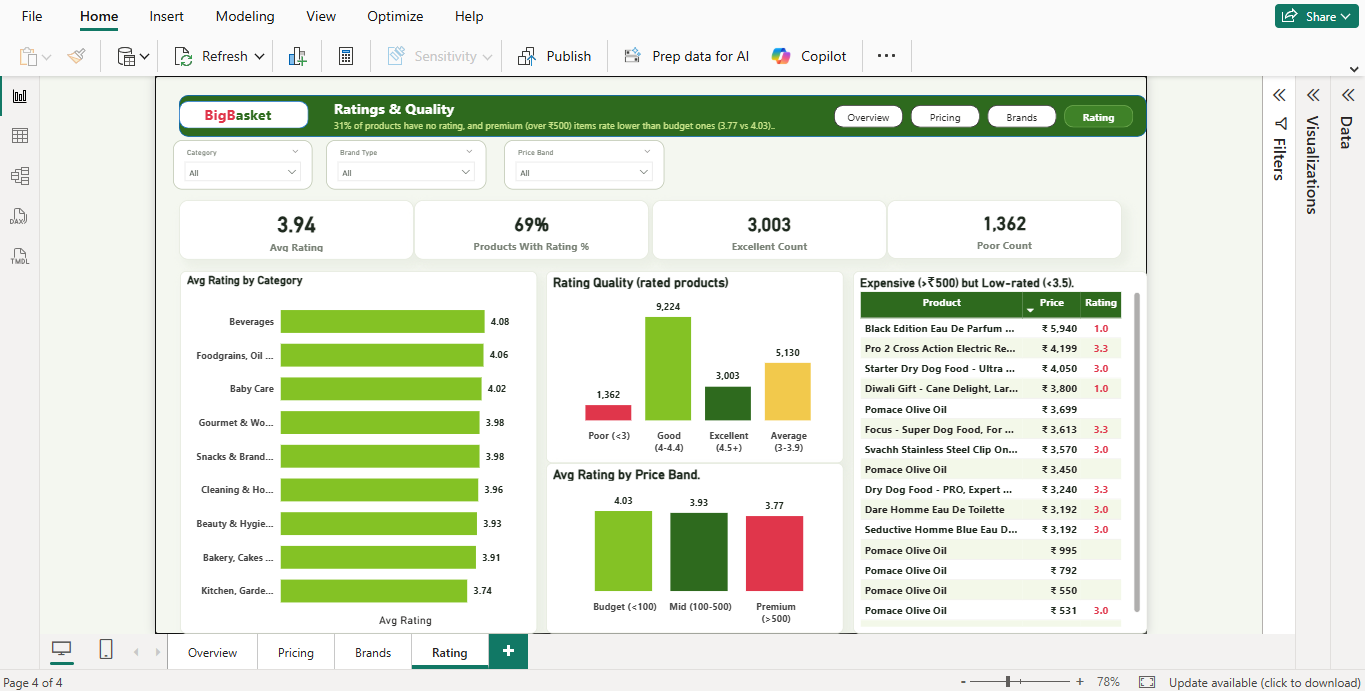

The dashboard page shown, as its layout file describes it:
{"tool":"powerbi","page":{"name":"Rating","canvas":[1280,720],"ordinal":3},"visuals":[{"type":"shape","box":[31.2,24.1,1248.7,53.9],"z":0},{"type":"shape","box":[31.2,32.6,167.2,35.4],"z":1000},{"type":"textbox","box":[22.7,32.6,167.2,35.4],"z":2000},{"type":"textbox","box":[225.4,24.1,674.6,58.1],"z":3000},{"type":"slicer","fields":{"Values":["products.category"]},"box":[22.7,82.2,180,63.8],"z":4000},{"type":"slicer","fields":{"Values":["products.category"]},"box":[450.7,82.2,206.9,63.8],"z":5000},{"type":"slicer","title":"Brand Type","fields":{"Values":["products.brand_type"]},"box":[221.1,82.2,206.9,63.8],"z":6000},{"type":"pageNavigator","box":[876.1,37.4,388.4,29.7],"z":7000},{"type":"card","fields":{"Values":["products.Avg Rating"]},"box":[31.5,160.2,303.2,77.2],"z":8000},{"type":"card","fields":{"Values":["products.Products With Rating %"]},"box":[334.7,160.2,303.2,77.2],"z":9000},{"type":"card","fields":{"Values":["products.Excellent Count"]},"box":[640.7,160.2,303.2,77.2],"z":10000},{"type":"card","fields":{"Values":["products.Poor Count"]},"box":[943.9,160.2,303.2,75.8],"z":11000},{"type":"clusteredBarChart","title":"Avg Rating by Category","fields":{"Category":["products.category"],"Y":["products.Avg Rating"]},"box":[31.7,251.9,461,468],"z":12000},{"type":"clusteredColumnChart","title":"Rating Quality (rated products)","fields":{"Category":["products.rating_band"],"Y":["products.Total Products"]},"box":[505.1,251.9,384,247.7],"z":13000},{"type":"clusteredColumnChart","title":"Avg Rating by Price Band.","fields":{"Category":["products.price_band"],"Y":["products.Avg Rating"]},"box":[505.1,499.6,384,220.2],"z":14000},{"type":"tableEx","title":"Expensive (>₹500) but Low-rated (<3.5).","fields":{"Values":["products.product","products.sale_price","products.rating"]},"box":[900.1,251.9,379.9,468],"z":15000}]}

Visuals, with their boxes on the page's 1280x720 design canvas (x1, y1, x2, y2). These are canvas units, not pixel positions in the 1365x691 screenshot, which may show the page scaled, cropped or inside an application window:
shape: [31, 24, 1280, 78]
shape: [31, 33, 198, 68]
textbox: [23, 33, 190, 68]
textbox: [225, 24, 900, 82]
slicer - products.category: [23, 82, 203, 146]
slicer - products.category: [451, 82, 658, 146]
"Brand Type" slicer: [221, 82, 428, 146]
pageNavigator: [876, 37, 1264, 67]
card - products.Avg Rating: [32, 160, 335, 237]
card - products.Products With Rating %: [335, 160, 638, 237]
card - products.Excellent Count: [641, 160, 944, 237]
card - products.Poor Count: [944, 160, 1247, 236]
"Avg Rating by Category" clusteredBarChart: [32, 252, 493, 720]
"Rating Quality (rated products)" clusteredColumnChart: [505, 252, 889, 500]
"Avg Rating by Price Band." clusteredColumnChart: [505, 500, 889, 720]
"Expensive (>₹500) but Low-rated (<3.5)." tableEx: [900, 252, 1280, 720]
